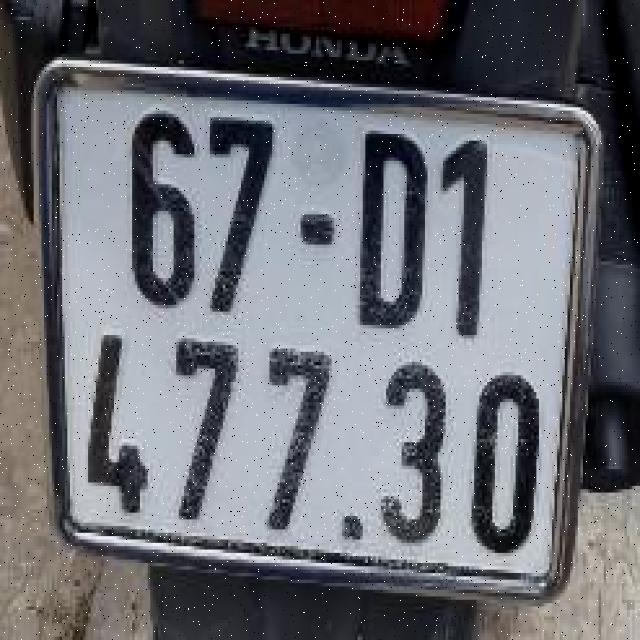0: (470, 368, 543, 553)
1: (435, 132, 503, 347)
3: (384, 357, 461, 558)
4: (78, 328, 155, 523)
6: (124, 102, 200, 317)
7: (202, 106, 283, 320), (259, 342, 337, 536), (171, 333, 244, 521)
D: (354, 119, 431, 337)
